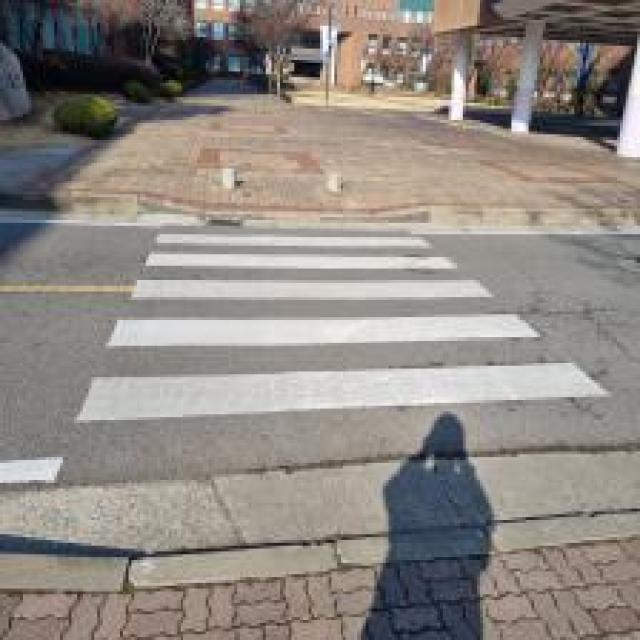crosswalk: (73, 217, 621, 435)
